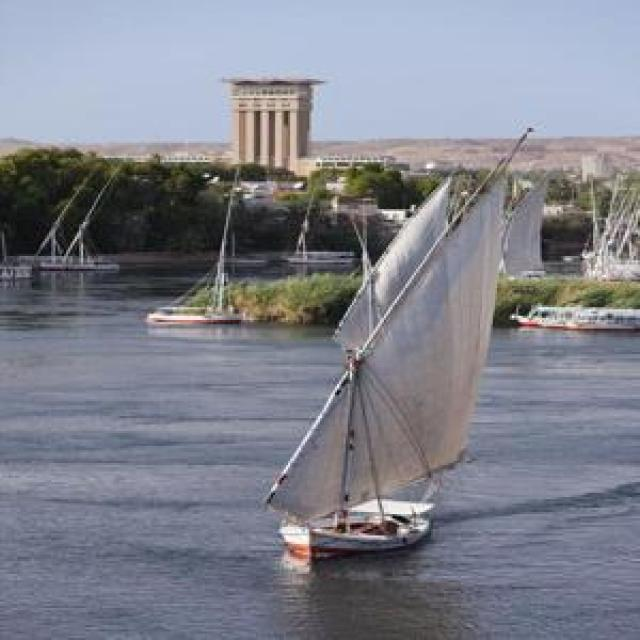houseboat: (505, 290, 640, 335)
sailboat: (269, 121, 517, 561), (493, 155, 556, 281)
